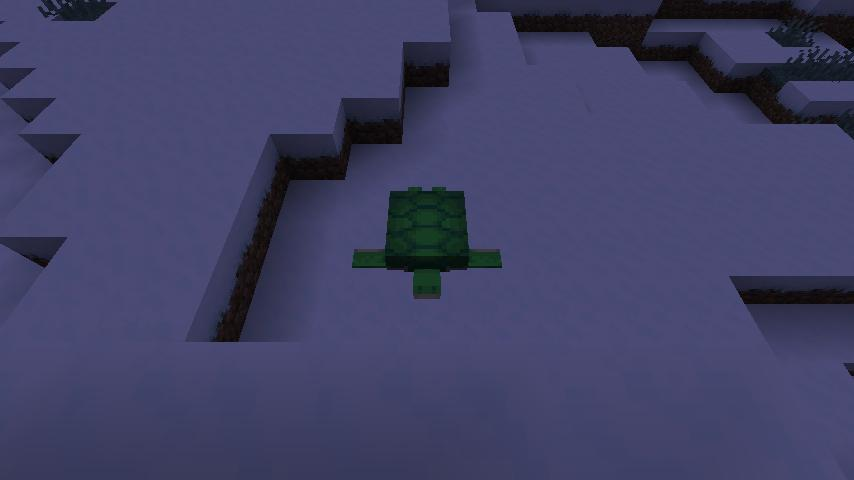turtle: (352, 181, 505, 307)
